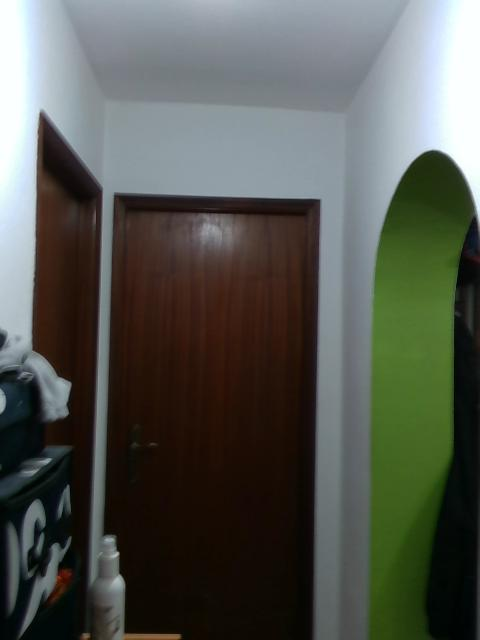door: (129, 214, 306, 640)
